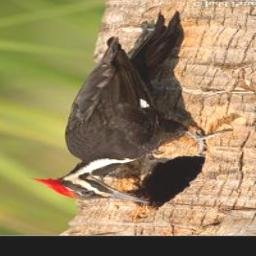Woodpecker: (29, 11, 234, 204)
